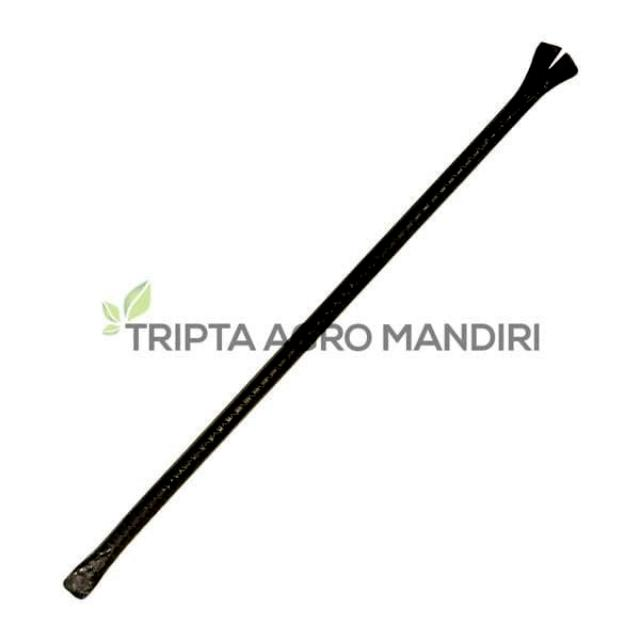crow bar: (64, 47, 579, 606)
